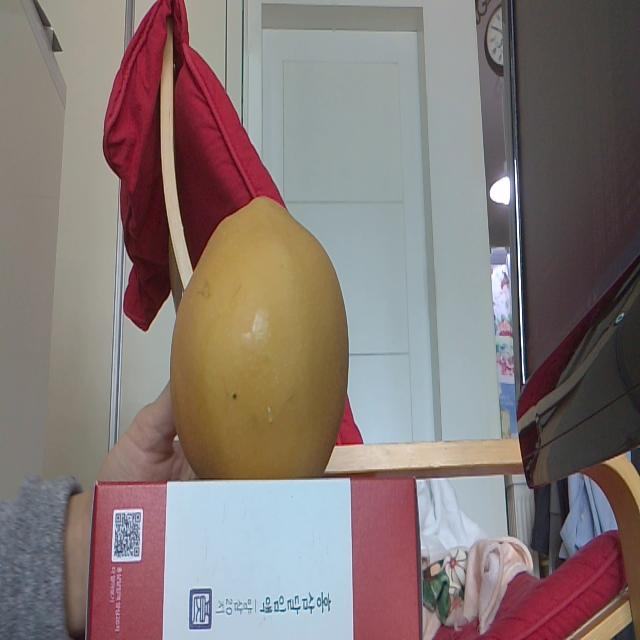pear: (168, 194, 348, 479)
